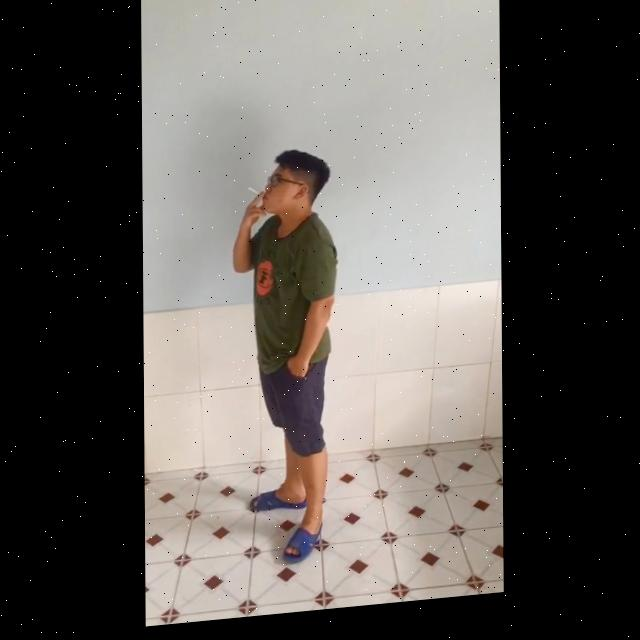cigarette: (247, 190, 260, 201)
